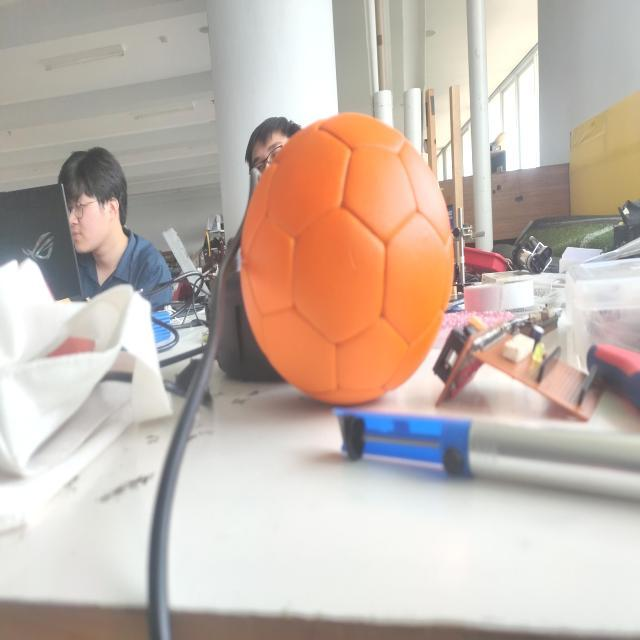bola: (218, 96, 464, 424)
